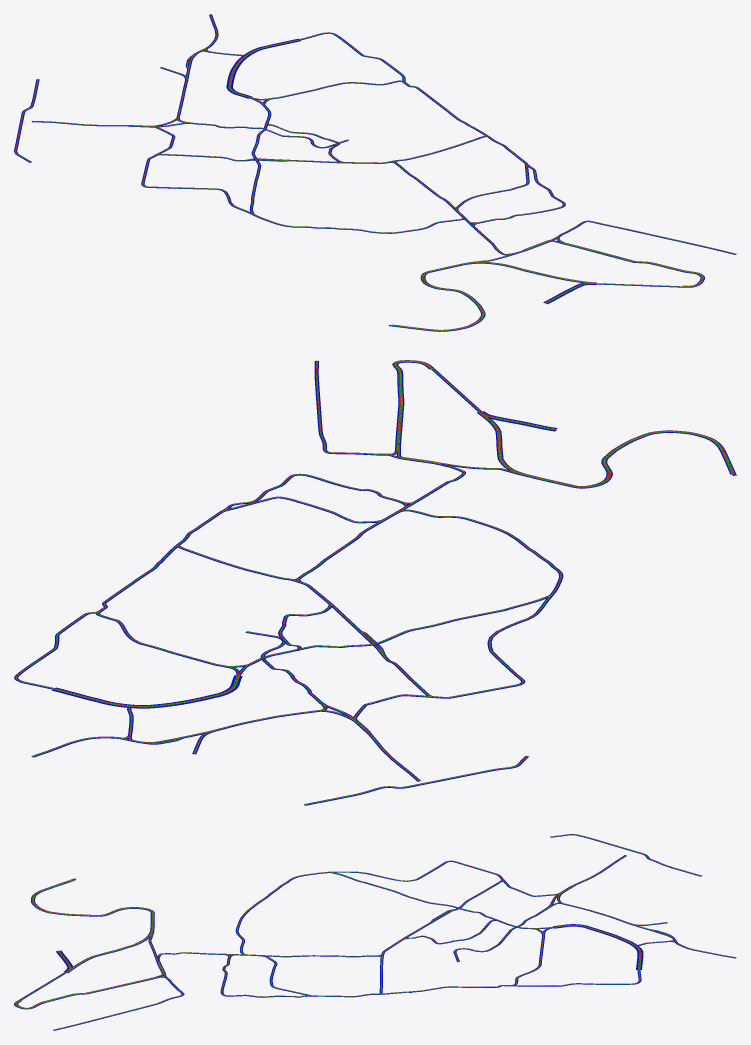
Rendered from 3dmap_metro.glb.
3 views of the same model, one above another, from view 1: azimuth 30°, elevation 25°; view 2: azimuth 150°, elevation 25°; view 3: azimuth 270°, elevation 25° (orthographic). The views are drawn at different scales.
Visible parts, largest first — view 1: submesh_00_LOD_1; view 2: submesh_00_LOD_1; view 3: submesh_00_LOD_1.
Boxes of the visible parts, x1=… form: submesh_00_LOD_1: x1=14, y1=14, x2=736, y2=331; submesh_00_LOD_1: x1=14, y1=360, x2=736, y2=805; submesh_00_LOD_1: x1=14, y1=834, x2=736, y2=1030.
Size of the model in its own units: 3091 by 133 by 4806.
